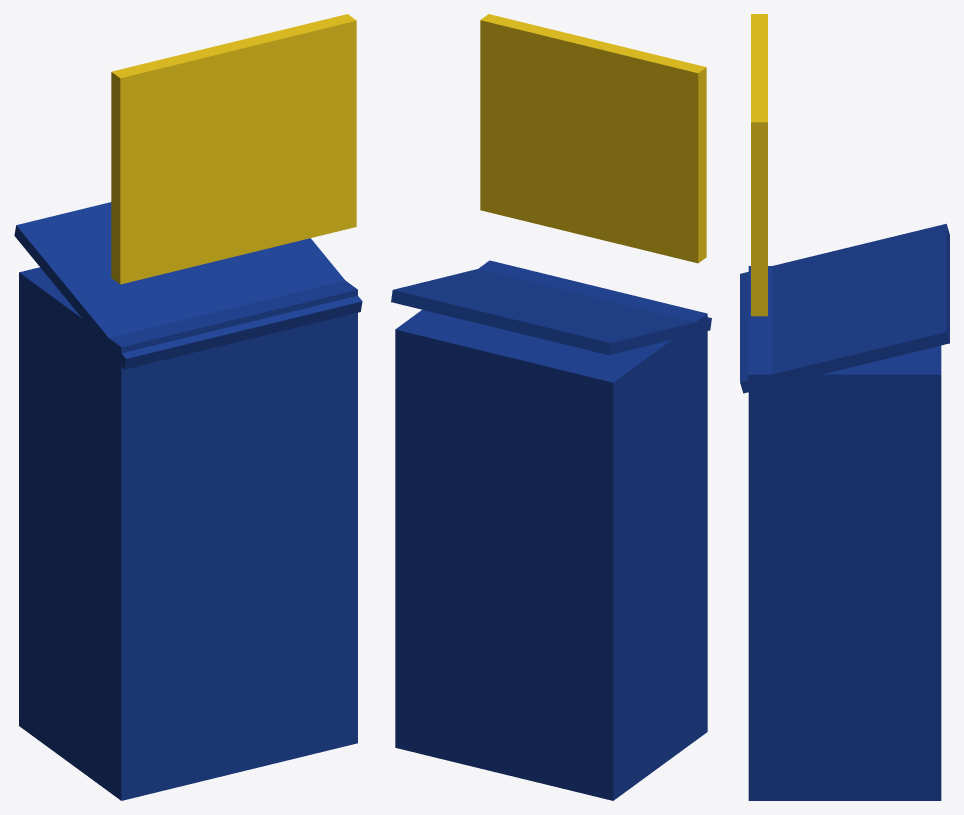
The model's file is retail.store.lottery_stand.glb.
The picture shows the model from 3 angles, left to right: view 1: azimuth 30°, elevation 25°; view 2: azimuth 150°, elevation 25°; view 3: azimuth 270°, elevation 25°; orthographic projection. The views are drawn at different scales.
Parts seen in each view (by area): view 1: main__plastic_blue, main__plastic_yellow; view 2: main__plastic_blue, main__plastic_yellow; view 3: main__plastic_blue, main__plastic_yellow.
Boxes of the visible parts, box(x1,y1,x2,y2) form: main__plastic_blue: box(14, 202, 362, 800); main__plastic_yellow: box(111, 14, 356, 284); main__plastic_blue: box(391, 260, 711, 800); main__plastic_yellow: box(480, 14, 706, 263); main__plastic_blue: box(740, 223, 949, 800); main__plastic_yellow: box(751, 14, 767, 316).
Size of the model in its own units: 0.6 by 1.75 by 0.4907.
